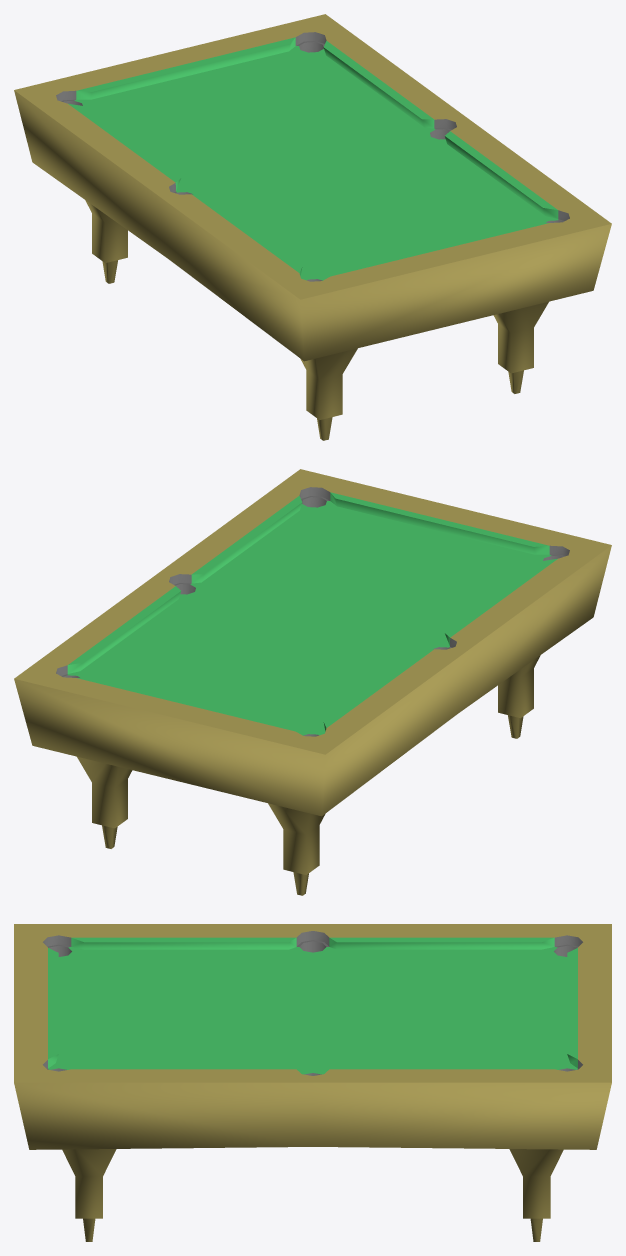
Rendered from billard.dae.
3 renders of one model, top to bottom at view 1: azimuth 30°, elevation 25°; view 2: azimuth 150°, elevation 25°; view 3: azimuth 270°, elevation 25°, orthographic. The views are drawn at different scales.
Parts seen in each view (by area): view 1: billiard; view 2: billiard; view 3: billiard.
Part boxes in pixels (box(x1,y1,x2,y2)): billiard: box(14, 14, 611, 440); billiard: box(14, 469, 611, 895); billiard: box(14, 924, 611, 1241).
Size of the model in its own units: 24.48 by 38.99 by 13.54.
